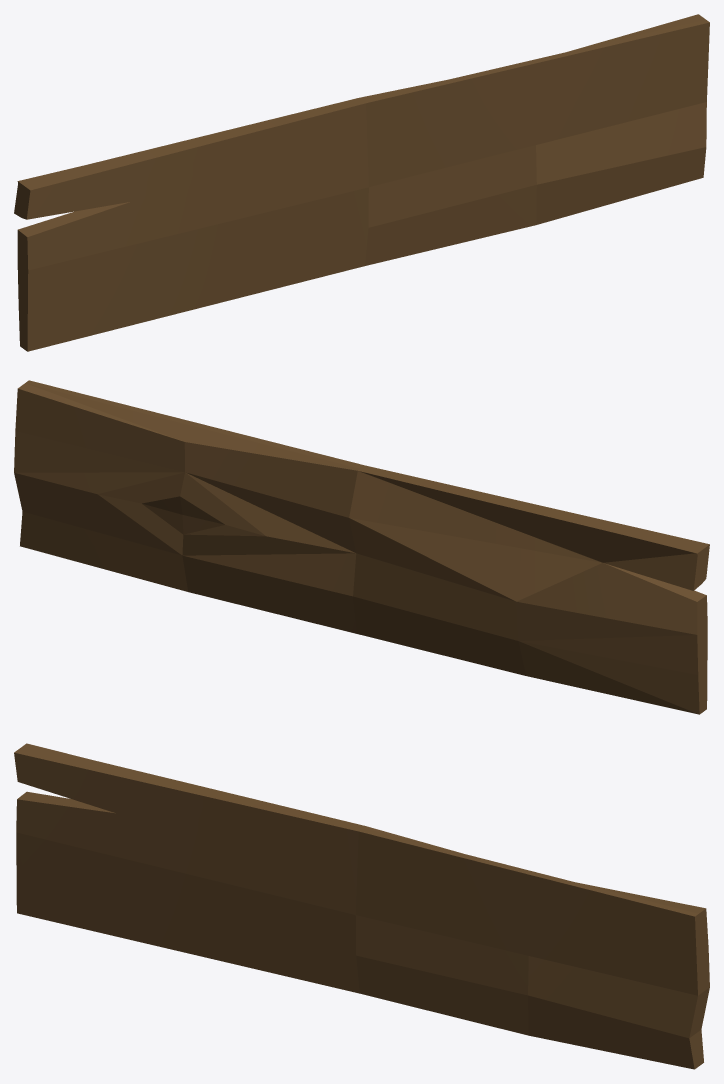
File: mod_UIBG_Button.fbx
The picture shows the model from 3 angles, top to bottom: view 1: azimuth 30°, elevation 25°; view 2: azimuth 150°, elevation 25°; view 3: azimuth 330°, elevation 25°; orthographic projection.
Visible parts, largest first — view 1: Cube.002; view 2: Cube.002; view 3: Cube.002.
Boxes of the visible parts, <box> form: Cube.002: <box>14,14,709,351</box>; Cube.002: <box>14,380,709,714</box>; Cube.002: <box>14,743,709,1069</box>.
Bounding box in the file's own units: 30.18 × 6.92 × 1.83.
